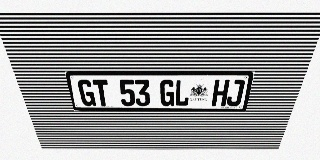3: (134, 80, 150, 106)
5: (119, 80, 136, 106)
G: (77, 80, 96, 106), (160, 80, 175, 106)
H: (211, 80, 230, 106)
J: (226, 80, 245, 106)
L: (174, 80, 190, 106)
T: (92, 80, 111, 106)
